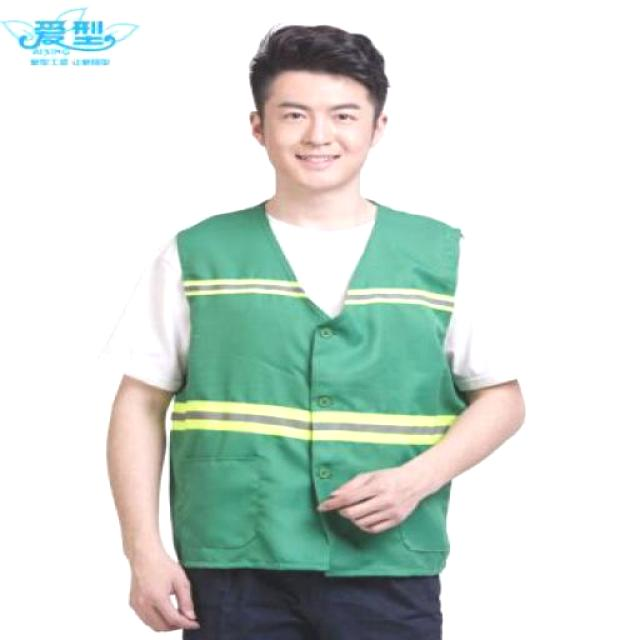face_nomask: (276, 96, 366, 176)
hand_noglove: (311, 447, 434, 542), (120, 552, 204, 638)
head_nohelmet: (241, 18, 398, 92)
person: (84, 17, 532, 640)
vest: (184, 199, 457, 582)
